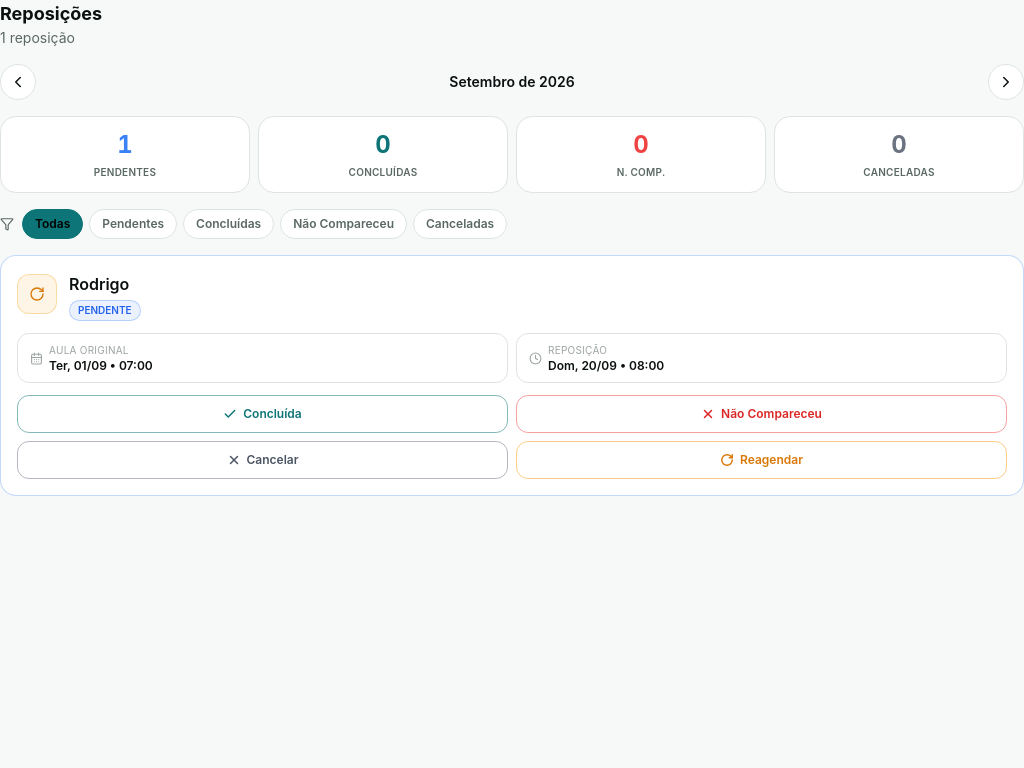
Test case: ReposicoesView — "Reagendar" (validações do ReposicaoModal) › bloqueia o reagendamento para uma data anterior à adesão do aluno
Click the button "Reagendar" at x=762, y=460, box x1=516 y1=441 x2=1007 y2=479
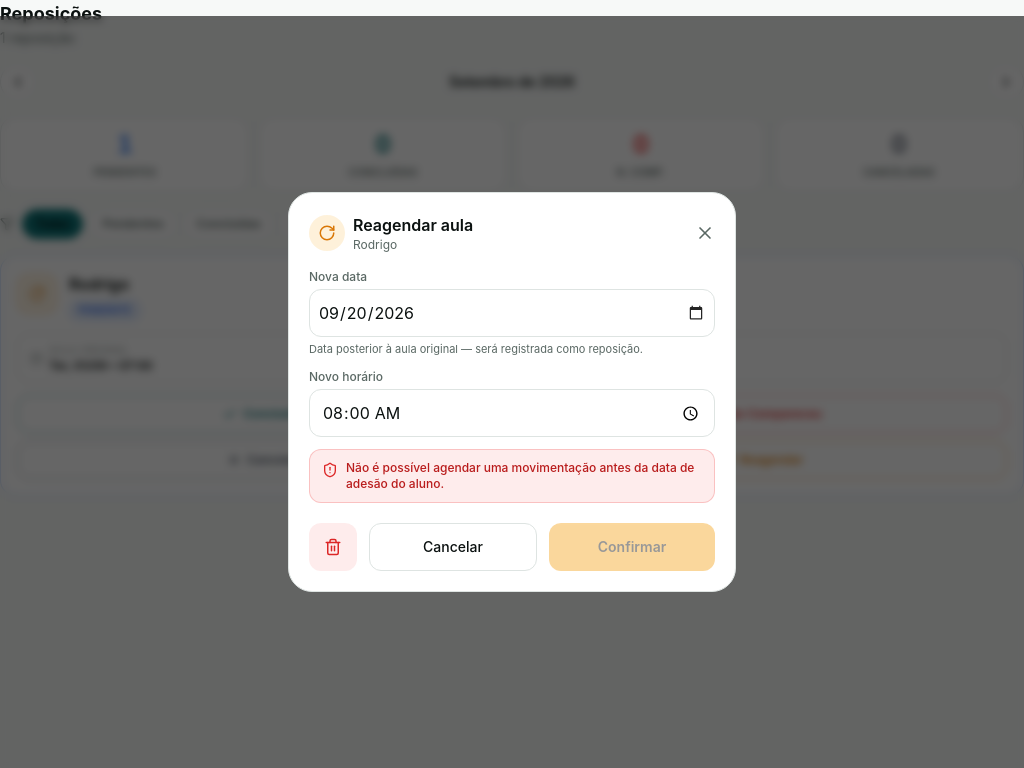
Check: the heading "Reagendar aula" is shown, box x1=353 y1=213 x2=473 y2=237
Check: the text "Não é possível agendar uma movimentação antes da data de adesão do aluno." is shown, box x1=346 y1=460 x2=702 y2=492
Check: the button "Confirmar" is disabled, box x1=549 y1=523 x2=715 y2=571
